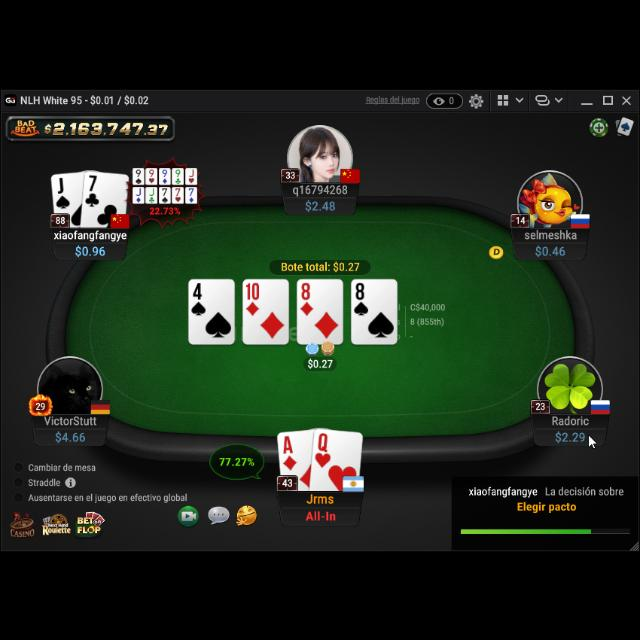6s: (352, 280, 370, 316)
all_in_symbol: (304, 506, 338, 522)
bet_text: (306, 356, 334, 368)
dealer: (487, 240, 505, 258)
pot_text: (280, 259, 362, 271)
stack_text: (554, 427, 594, 443), (303, 197, 337, 211), (55, 428, 87, 442), (75, 243, 107, 257), (534, 242, 566, 255)
